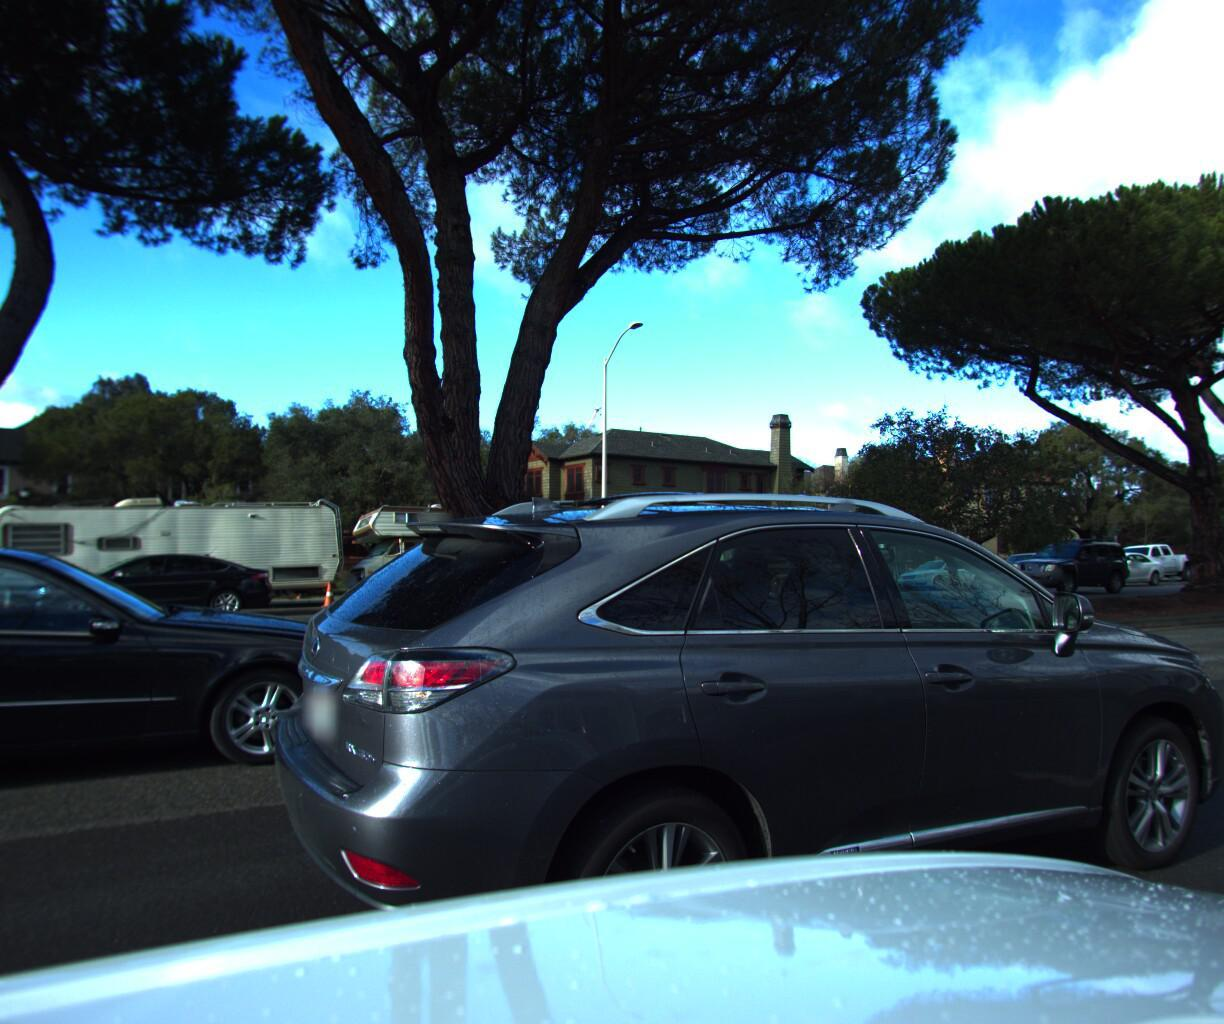car: (206, 389, 1224, 1024), (0, 542, 402, 899), (20, 547, 273, 627), (1000, 539, 1136, 592), (1084, 538, 1196, 581), (1067, 543, 1171, 585), (886, 551, 991, 588), (976, 548, 1080, 584), (1167, 548, 1224, 578)
other_vehicle: (0, 485, 352, 621), (336, 490, 621, 604), (672, 497, 896, 594)
